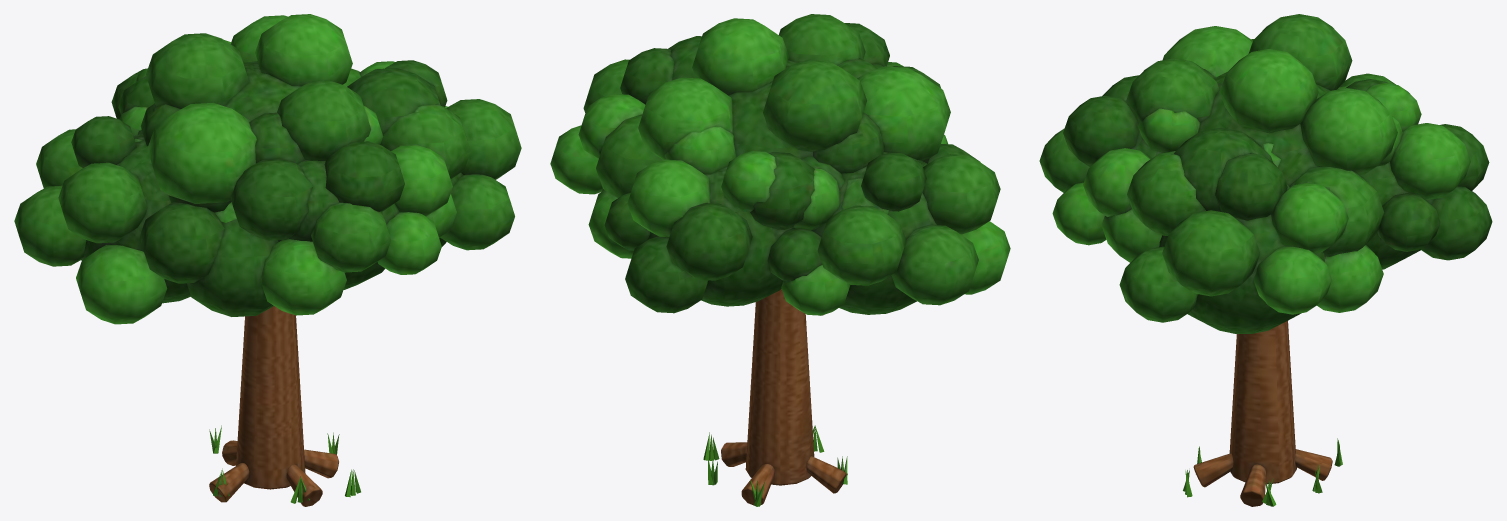
File: chestnut_tree.glb
The picture shows the model from 3 angles, left to right: view 1: azimuth 30°, elevation 25°; view 2: azimuth 150°, elevation 25°; view 3: azimuth 270°, elevation 25°; orthographic projection. The views are drawn at different scales.
Parts seen in each view (by area): view 1: crown, chestnut_tree; view 2: crown, chestnut_tree; view 3: crown, chestnut_tree.
Part boxes in pixels (box(x1,y1,x2,y2)): crown: box(14, 14, 521, 324); chestnut_tree: box(209, 306, 360, 506); crown: box(550, 14, 1010, 315); chestnut_tree: box(703, 289, 847, 506); crown: box(1039, 14, 1492, 333); chestnut_tree: box(1183, 321, 1342, 506).
Bounding box in the file's own units: 1.57 × 1.55 × 1.43.
1 material, 1 textured.
